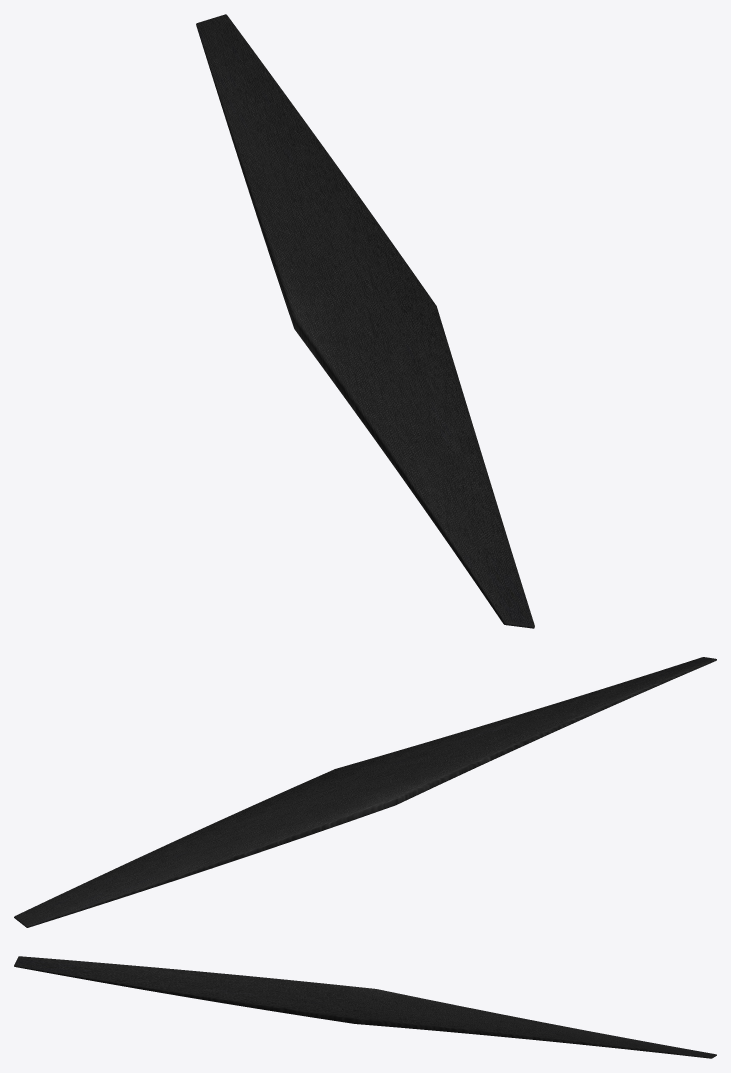
Rendered from dronePropeller.obj.
The picture shows the model from 3 angles, top to bottom: view 1: azimuth 30°, elevation 25°; view 2: azimuth 150°, elevation 25°; view 3: azimuth 270°, elevation 25°; orthographic projection. The views are drawn at different scales.
Parts seen in each view (by area): view 1: propeller001; view 2: propeller001; view 3: propeller001.
Part boxes in pixels (<box>): propeller001: <box>196,14,534,628</box>; propeller001: <box>14,657,716,927</box>; propeller001: <box>14,956,716,1058</box>.
Size of the model in its own units: 1.29 by 0.0542 by 3.77.
1 material, 1 textured.
